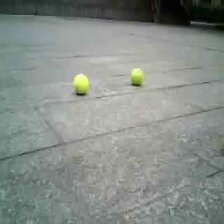tennis: (73, 73, 89, 91), (130, 68, 145, 86)
